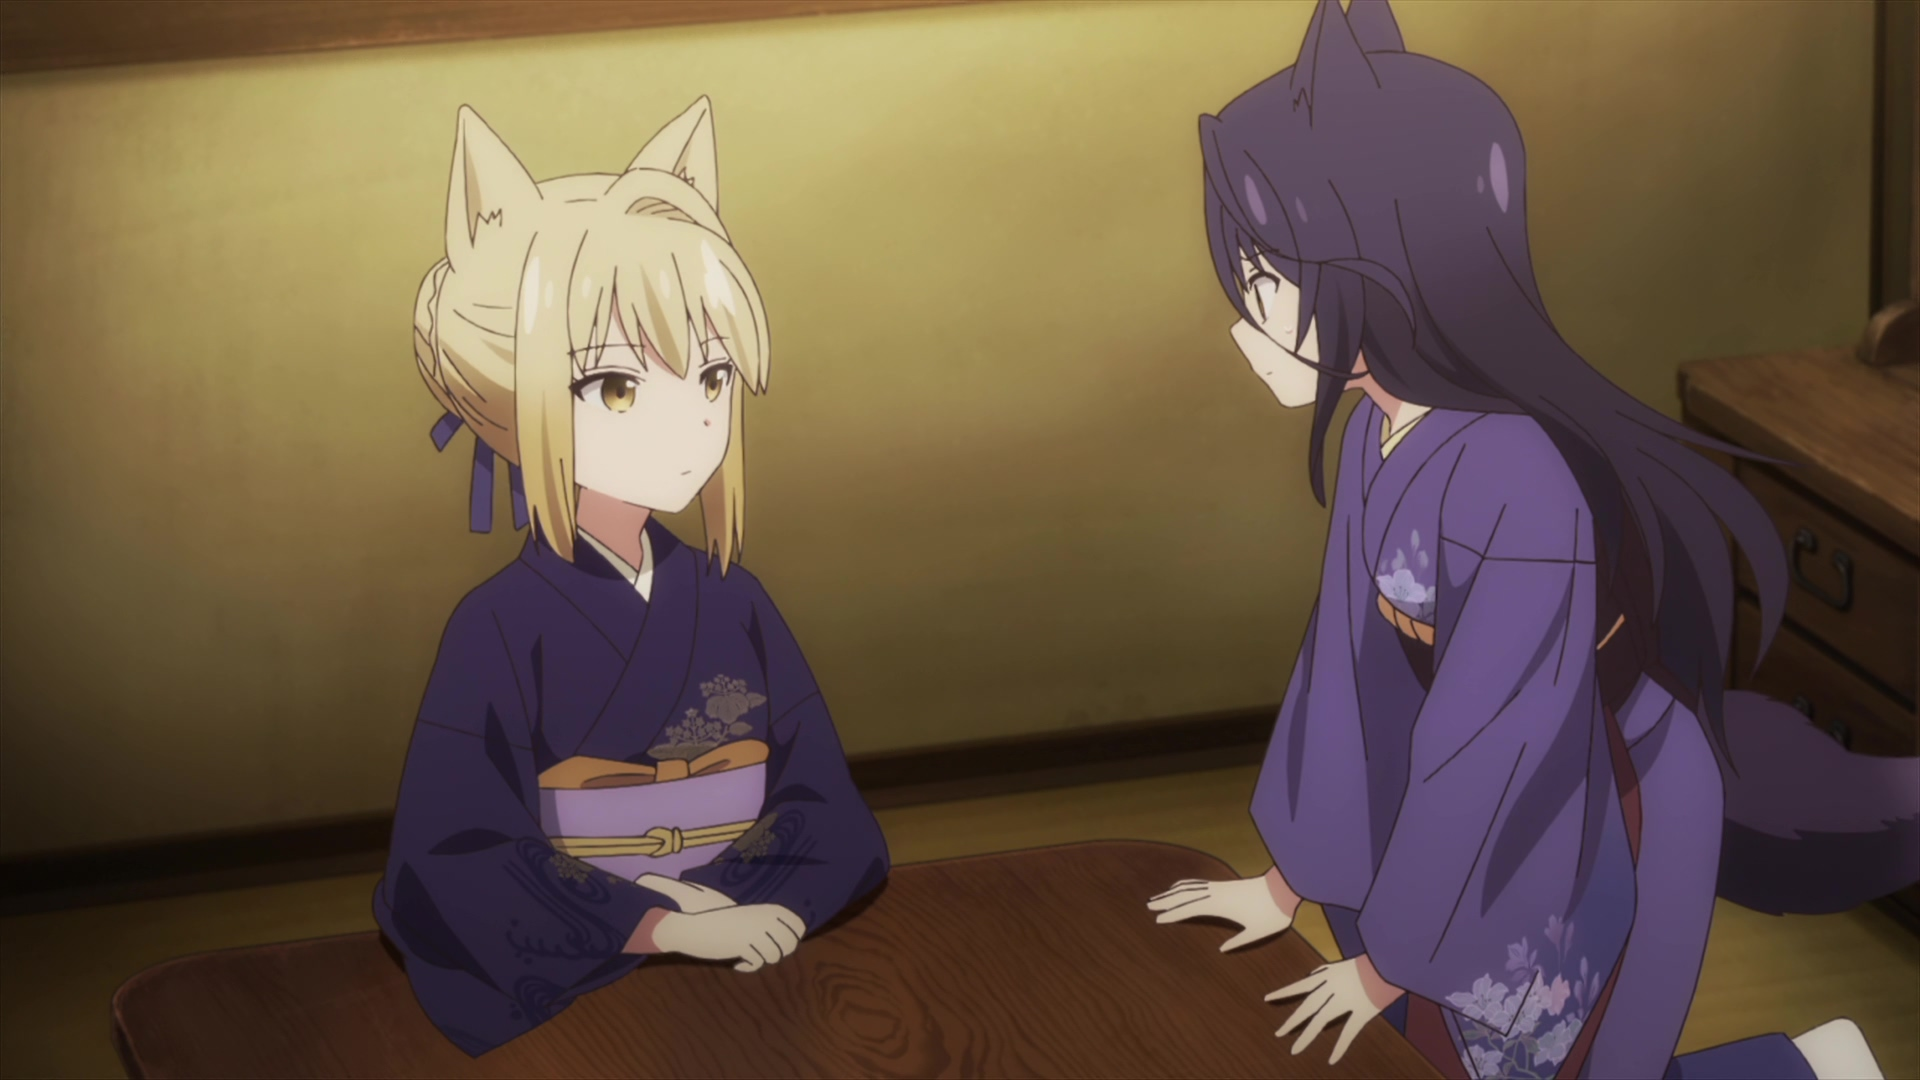桐: (371, 94, 887, 1060)
皋: (1145, 1, 1920, 1080)
